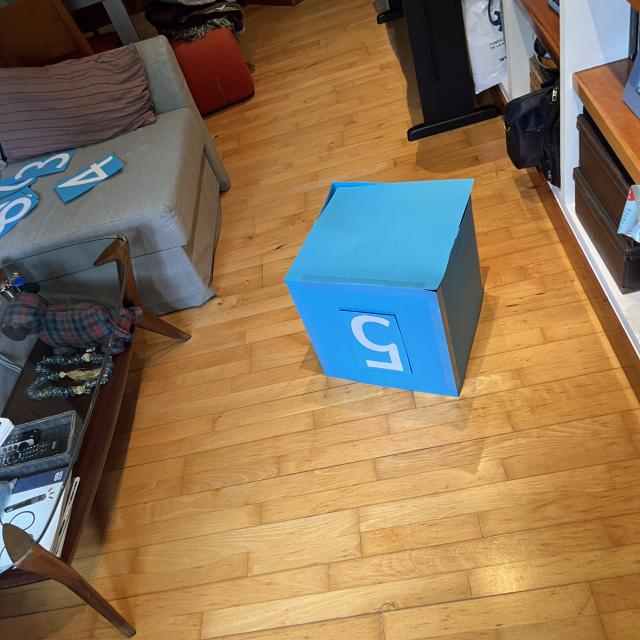box: (280, 174, 488, 400)
